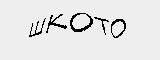К: (47, 10, 66, 34)
О: (70, 12, 92, 32), (110, 17, 126, 41)
Т: (94, 18, 109, 34)
Ш: (28, 16, 46, 37)
